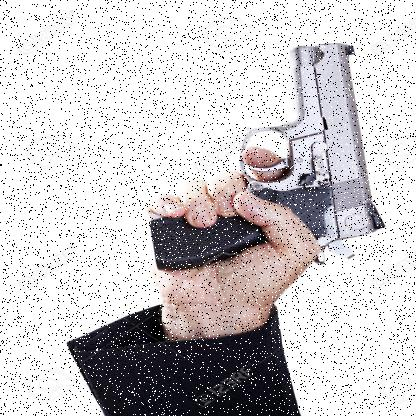pistol: (146, 40, 386, 273)
